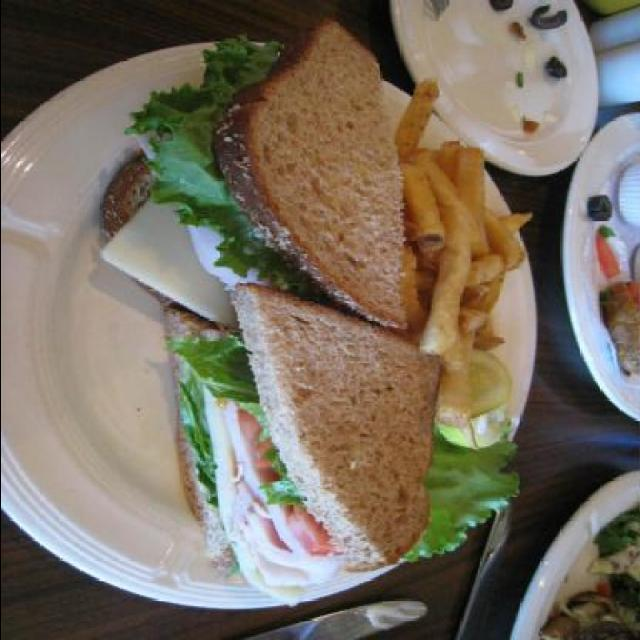Sandwich: (98, 14, 410, 332), (166, 279, 440, 610)
